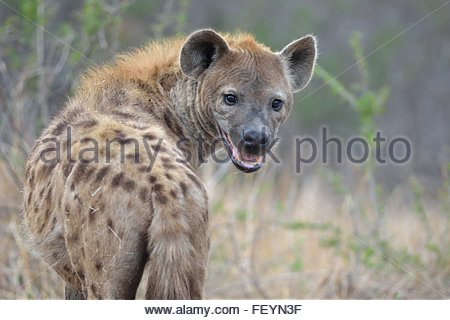hyena: (15, 27, 320, 299)
